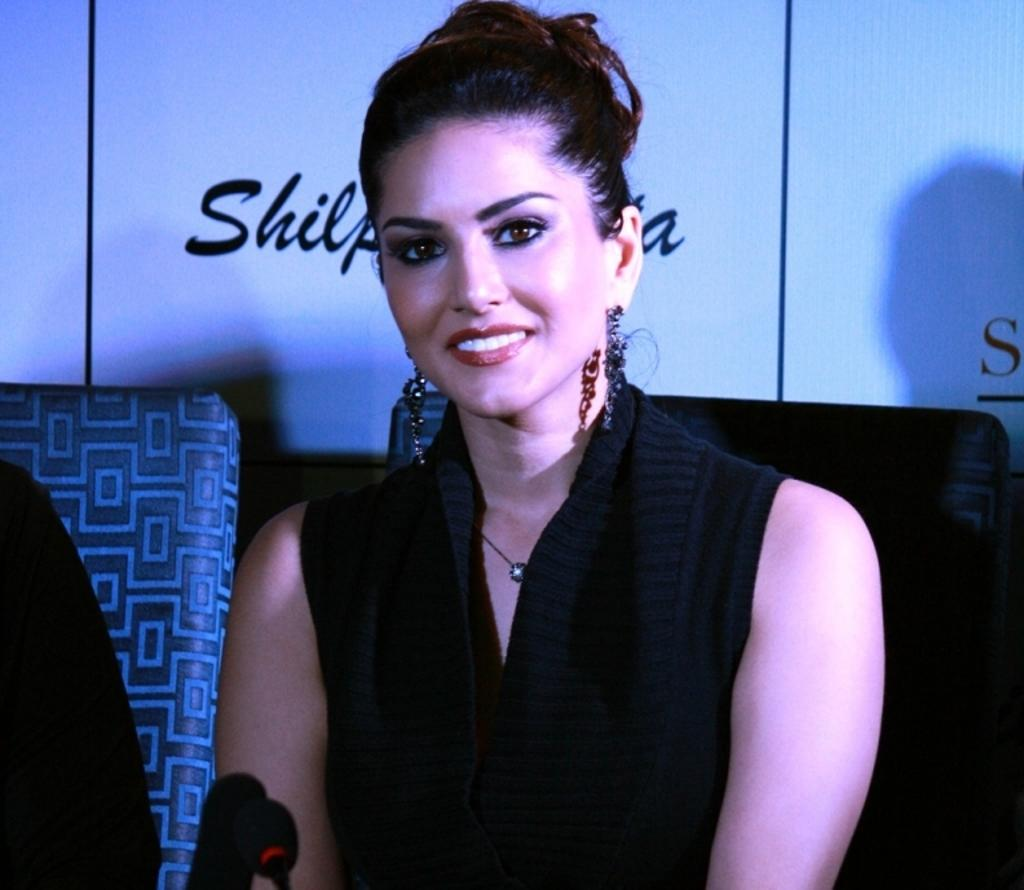face: (378, 116, 604, 406)
